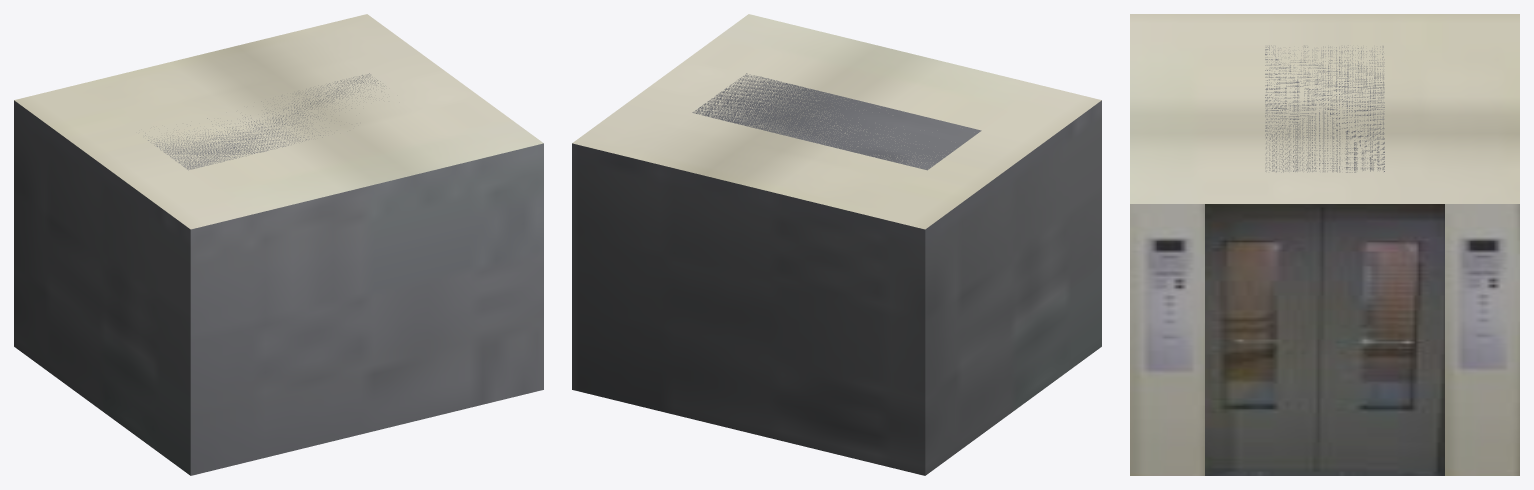
File: Elavater.fbx
3 renders of one model, left to right at view 1: azimuth 30°, elevation 25°; view 2: azimuth 150°, elevation 25°; view 3: azimuth 270°, elevation 25°, orthographic. The views are drawn at different scales.
Visible parts, largest first — view 1: 平面; view 2: 平面; view 3: 平面.
Boxes of the visible parts, x1,y1,x2,y2 form: 平面: (14, 14, 543, 475); 平面: (572, 14, 1101, 475); 平面: (1130, 14, 1519, 475).
Bounding box in the file's own units: 300 × 200 × 260.
